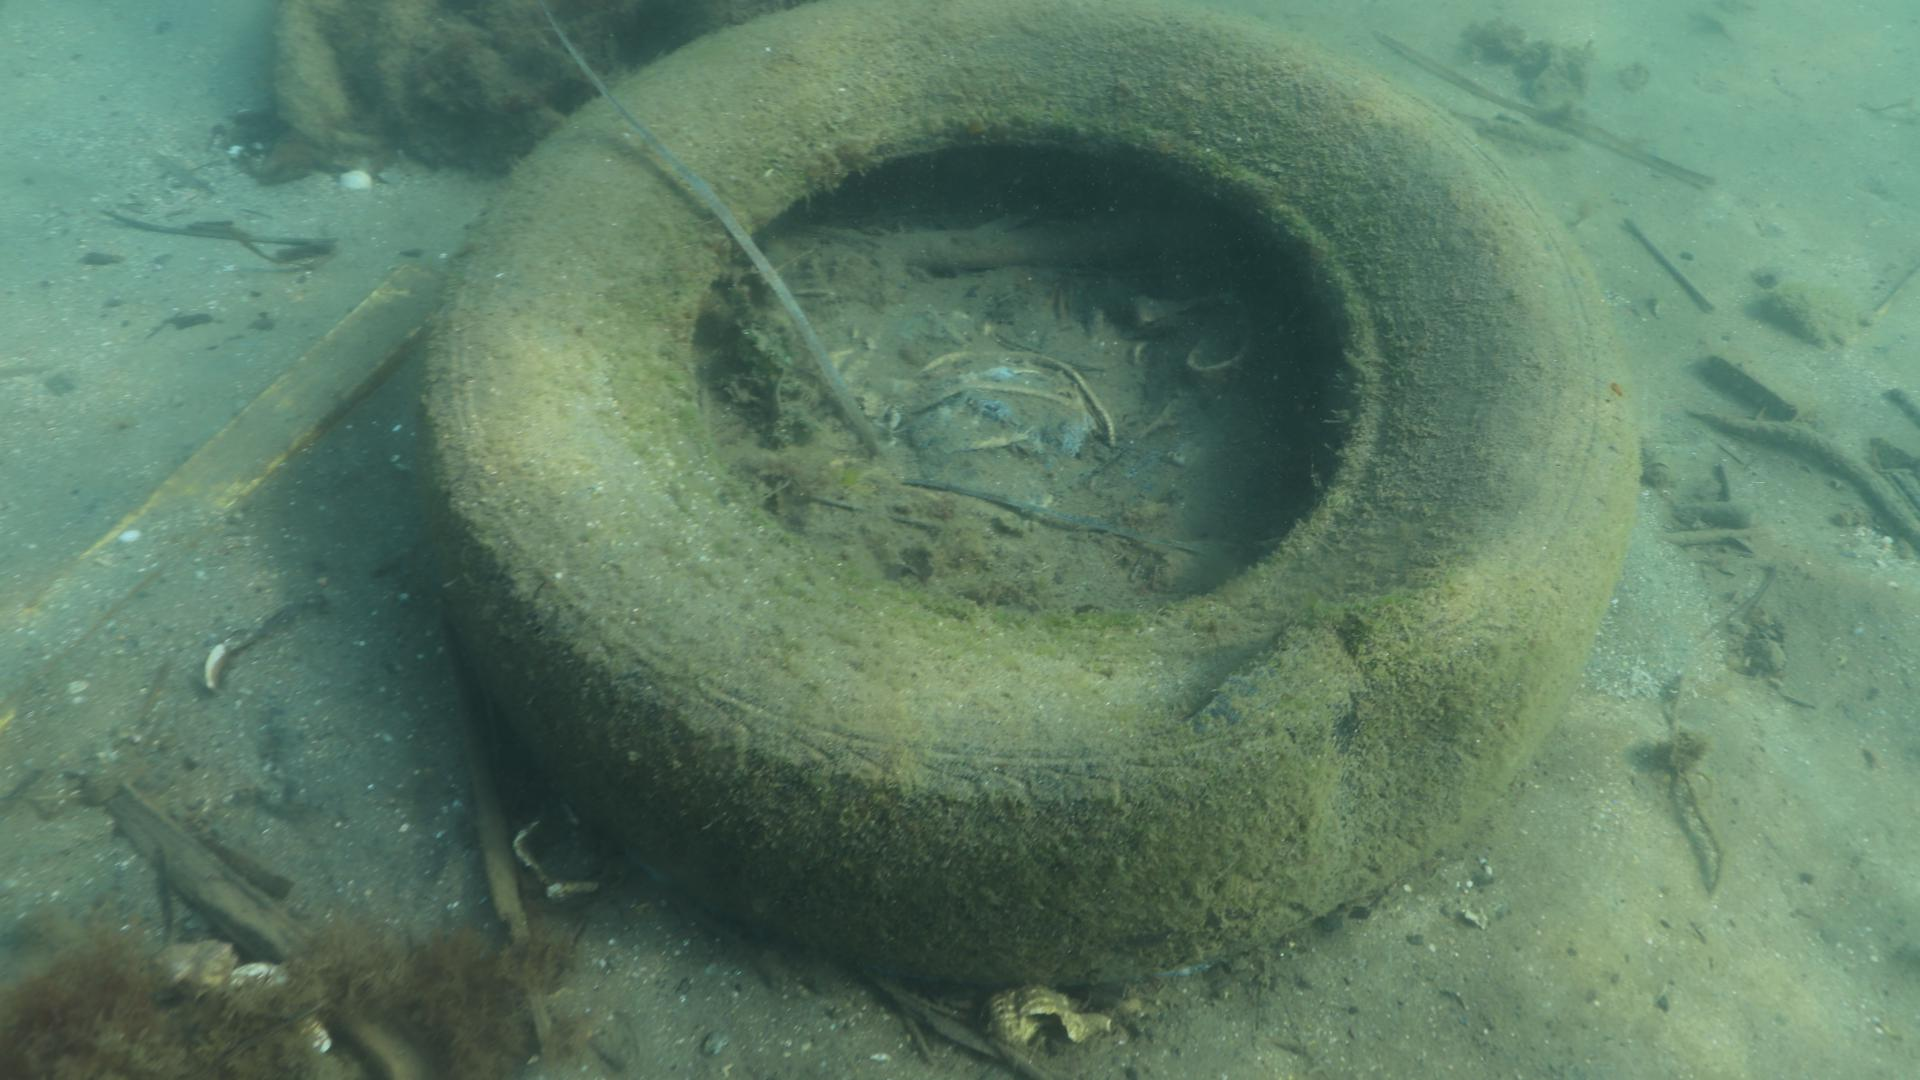tire: (419, 1, 1647, 989)
